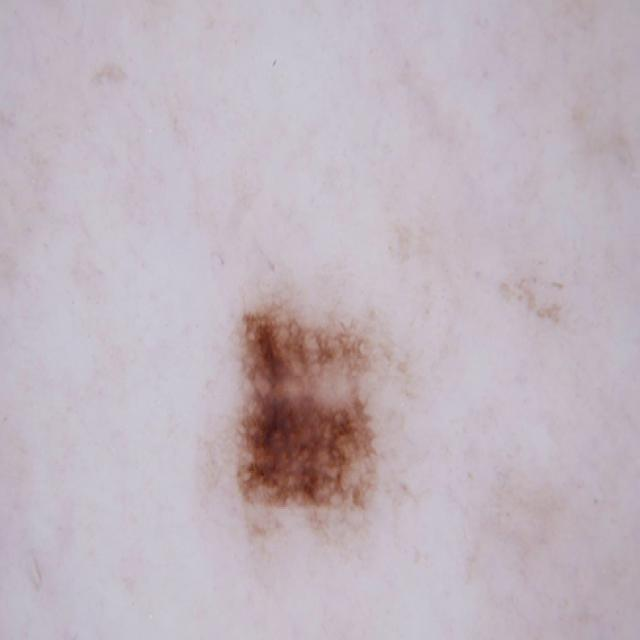Keratosis: (208, 239, 442, 574)
